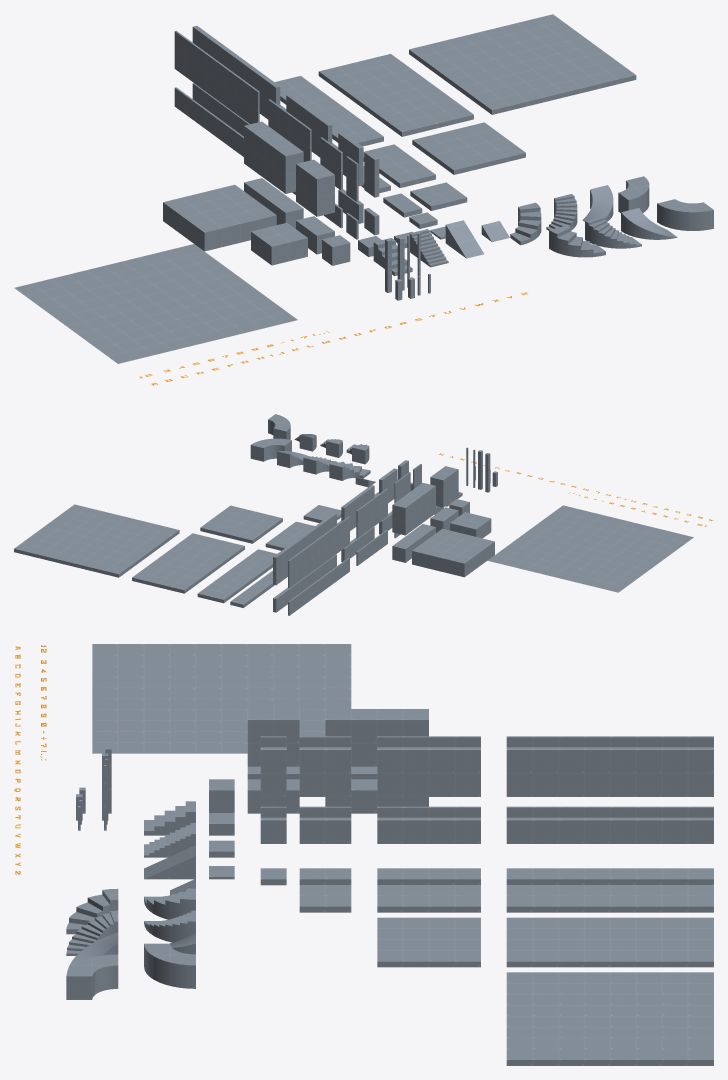
The model's file is Environment_Prototyping.FBX.
The picture shows the model from 3 angles, top to bottom: view 1: azimuth 30°, elevation 25°; view 2: azimuth 150°, elevation 25°; view 3: azimuth 270°, elevation 25°; orthographic projection. The views are drawn at different scales.
Parts seen in each view (by area): view 1: NeoFpsPrototype_Plane10x10, NeoFpsPrototype_Platform8x8, NeoFpsPrototype_Platform8x4, NeoFpsPrototype_Box4x4x1, NeoFpsPrototype_Platform4x4, NeoFpsPrototype_WallThin8x2, NeoFpsPrototype_Box4x1x2, NeoFpsPrototype_Platform8x2, NeoFpsPrototype_WallThick8x2, NeoFpsPrototype_Box2x1x2, NeoFpsPrototype_Box2x2x1, NeoFpsPrototype_Platform4x2 (+22 smaller); view 2: NeoFpsPrototype_Plane10x10, NeoFpsPrototype_Platform8x8, NeoFpsPrototype_Platform8x4, NeoFpsPrototype_Box4x4x1, NeoFpsPrototype_Platform4x4, NeoFpsPrototype_WallThin8x2, NeoFpsPrototype_Platform8x2, NeoFpsPrototype_Box4x1x2, NeoFpsPrototype_WallThick8x2, NeoFpsPrototype_WallThin8x1, NeoFpsPrototype_WallThin4x2, NeoFpsPrototype_WallThick8x1 (+18 smaller); view 3: NeoFpsPrototype_Plane10x10, NeoFpsPrototype_Platform8x8, NeoFpsPrototype_Platform8x4, NeoFpsPrototype_WallThick8x2, NeoFpsPrototype_Platform8x2, NeoFpsPrototype_WallThick8x1, NeoFpsPrototype_Platform4x4, NeoFpsPrototype_WallThick4x2, NeoFpsPrototype_Box4x1x2, NeoFpsPrototype_Platform8x1, NeoFpsPrototype_Platform4x2, NeoFpsPrototype_WallThick4x1 (+25 smaller).
Boxes of the visible parts, x1,y1,x2,y2 form: NeoFpsPrototype_Plane10x10: [14, 244, 297, 363]; NeoFpsPrototype_Platform8x8: [409, 14, 636, 114]; NeoFpsPrototype_Platform8x4: [318, 54, 473, 136]; NeoFpsPrototype_Box4x4x1: [163, 184, 276, 251]; NeoFpsPrototype_Platform4x4: [412, 122, 525, 174]; NeoFpsPrototype_WallThin8x2: [174, 30, 259, 124]; NeoFpsPrototype_Box4x1x2: [244, 121, 303, 193]; NeoFpsPrototype_Platform8x2: [275, 76, 383, 146]; NeoFpsPrototype_WallThick8x2: [192, 25, 280, 119]; NeoFpsPrototype_Box2x1x2: [296, 159, 334, 216]; NeoFpsPrototype_Box2x2x1: [251, 223, 307, 265]; NeoFpsPrototype_Platform4x2: [363, 144, 435, 187]; NeoFpsPrototype_Plane10x10: [487, 505, 693, 592]; NeoFpsPrototype_Platform8x8: [14, 504, 179, 577]; NeoFpsPrototype_Platform8x4: [132, 533, 244, 593]; NeoFpsPrototype_Box4x4x1: [412, 528, 494, 577]; NeoFpsPrototype_Platform4x4: [200, 505, 282, 543]; NeoFpsPrototype_WallThin8x2: [288, 516, 349, 588]; NeoFpsPrototype_Platform8x2: [197, 549, 276, 603]; NeoFpsPrototype_Box4x1x2: [392, 483, 435, 535]; NeoFpsPrototype_WallThick8x2: [273, 512, 336, 585]; NeoFpsPrototype_WallThin8x1: [288, 557, 349, 615]; NeoFpsPrototype_WallThin4x2: [356, 488, 387, 538]; NeoFpsPrototype_WallThick8x1: [273, 554, 336, 612]; NeoFpsPrototype_Plane10x10: [92, 644, 351, 753]; NeoFpsPrototype_Platform8x8: [506, 972, 713, 1065]; NeoFpsPrototype_Platform8x4: [506, 917, 713, 967]; NeoFpsPrototype_WallThick8x2: [506, 747, 713, 796]; NeoFpsPrototype_Platform8x2: [506, 885, 713, 912]; NeoFpsPrototype_WallThick8x1: [506, 817, 713, 843]; NeoFpsPrototype_Platform4x4: [377, 917, 480, 967]; NeoFpsPrototype_WallThick4x2: [377, 747, 480, 796]; NeoFpsPrototype_Box4x1x2: [325, 709, 428, 766]; NeoFpsPrototype_Platform8x1: [506, 868, 713, 884]; NeoFpsPrototype_Platform4x2: [377, 885, 480, 912]; NeoFpsPrototype_WallThick4x1: [377, 817, 480, 843].
Size of the model in its own units: 3800 by 2702 by 425.
